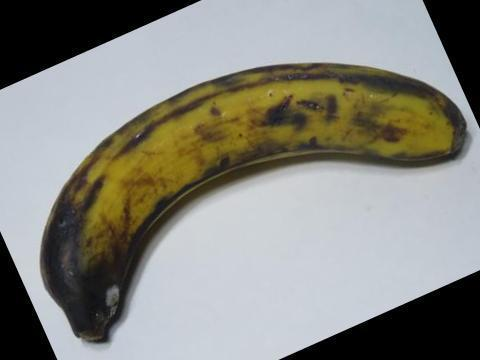overripe: (30, 43, 475, 351)
rotten: (36, 196, 158, 348)
